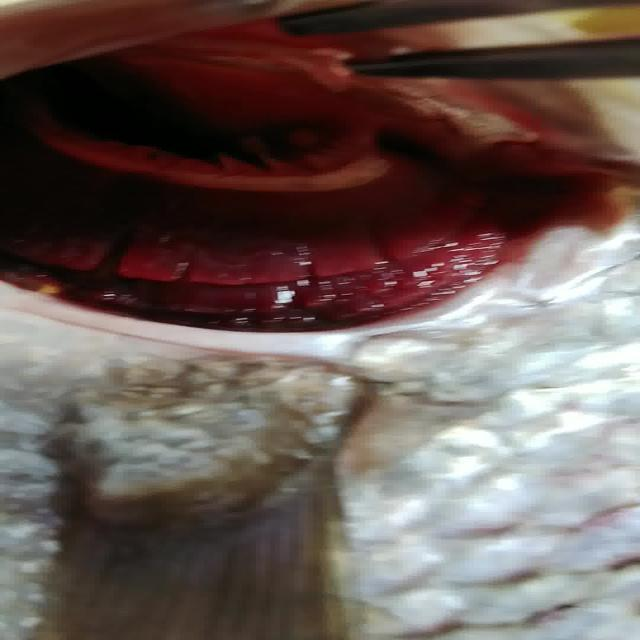Fresh: (20, 58, 617, 369)
